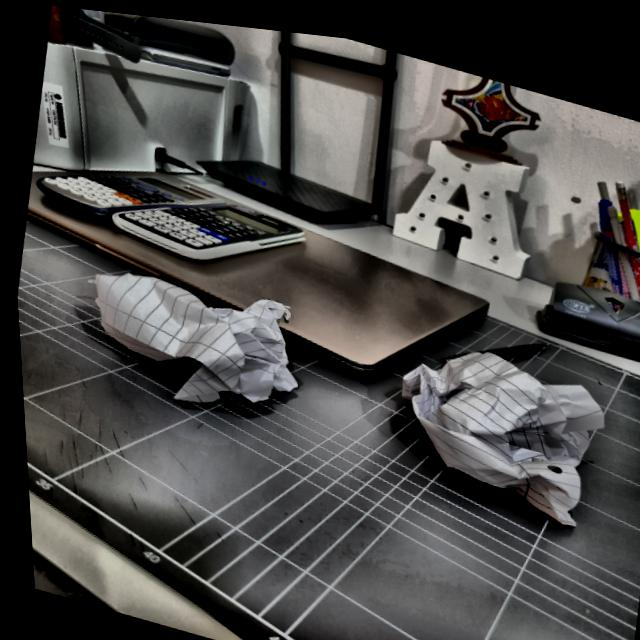Paper: (379, 313, 609, 527), (74, 239, 316, 426)
